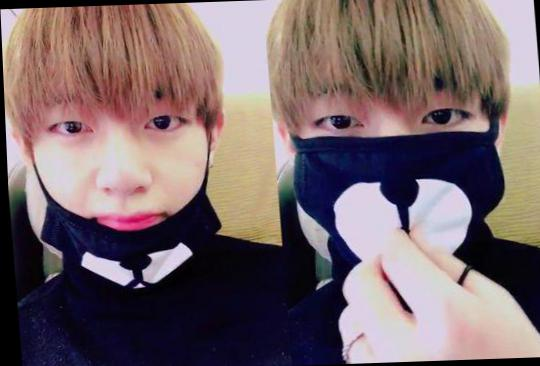OK: (292, 68, 501, 270)
WRONG: (20, 78, 219, 269)
